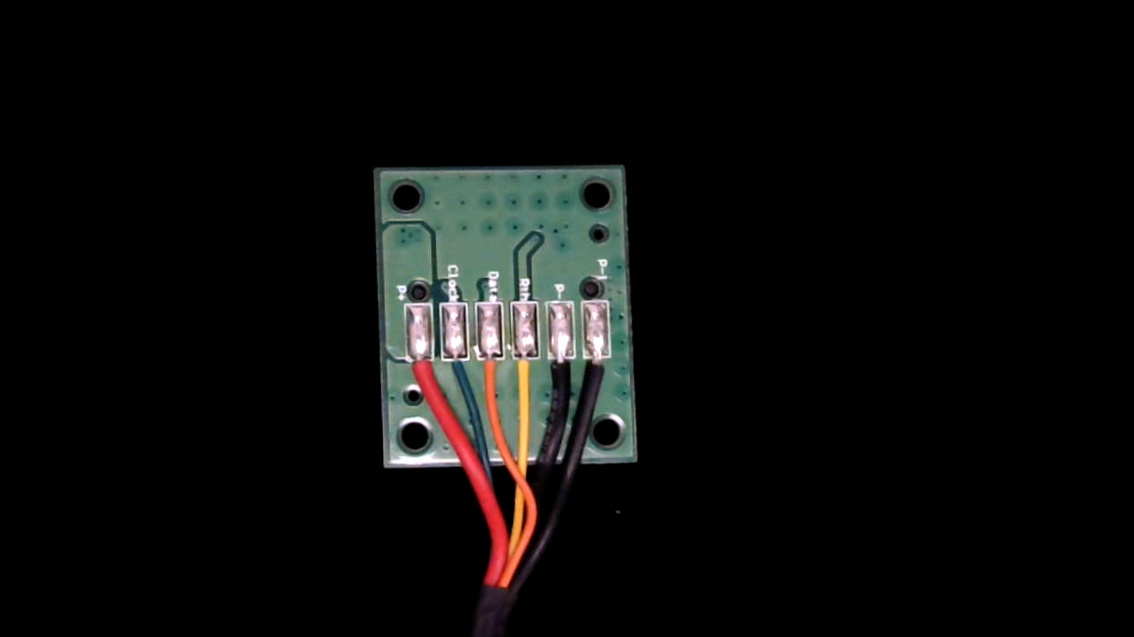Black: (545, 343, 577, 410)
Black1: (583, 345, 615, 406)
Green: (442, 342, 472, 395)
Orange: (476, 343, 507, 409)
Red: (404, 344, 436, 407)
Yellow: (509, 343, 542, 411)
